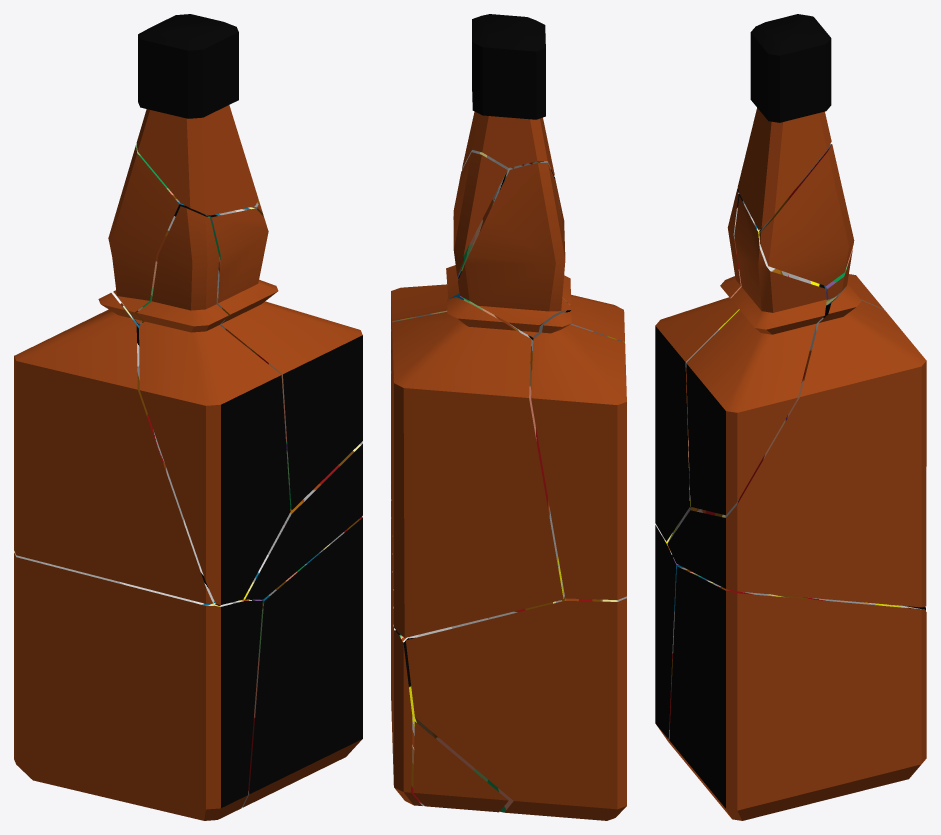
The model's file is whiskey_bottle_shattered.fbx.
3 views of the same model, side by side, from view 1: azimuth 30°, elevation 25°; view 2: azimuth 150°, elevation 25°; view 3: azimuth 270°, elevation 25° (orthographic).
Visible parts, largest first — view 1: WhiskeyBottle_cell.007, WhiskeyBottle_cell.001, WhiskeyBottle_cell.006, WhiskeyBottle_cell.009, WhiskeyBottle_cell.004, WhiskeyBottle_cell.002, WhiskeyBottle_cell.008, WhiskeyBottle_cell; view 2: WhiskeyBottle_cell.008, WhiskeyBottle_cell.007, WhiskeyBottle_cell.001, WhiskeyBottle_cell, WhiskeyBottle_cell.002, WhiskeyBottle_cell.003, WhiskeyBottle_cell.009, WhiskeyBottle_cell.005, WhiskeyBottle_cell.004, WhiskeyBottle_cell.006; view 3: WhiskeyBottle_cell.009, WhiskeyBottle_cell.008, WhiskeyBottle_cell.004, WhiskeyBottle_cell.002, WhiskeyBottle_cell.006, WhiskeyBottle_cell.005, WhiskeyBottle_cell.007.
Boxes of the visible parts, x1,y1,x2,y2 form: WhiskeyBottle_cell.007: (14, 552, 262, 820); WhiskeyBottle_cell.001: (14, 293, 214, 603); WhiskeyBottle_cell.006: (137, 206, 290, 604); WhiskeyBottle_cell.009: (242, 516, 362, 807); WhiskeyBottle_cell.004: (201, 207, 362, 510); WhiskeyBottle_cell.002: (136, 14, 258, 215); WhiskeyBottle_cell.008: (74, 303, 362, 599); WhiskeyBottle_cell: (108, 144, 188, 325); WhiskeyBottle_cell.008: (391, 297, 564, 637); WhiskeyBottle_cell.007: (405, 596, 626, 820); WhiskeyBottle_cell.001: (531, 311, 626, 599); WhiskeyBottle_cell: (458, 163, 571, 340); WhiskeyBottle_cell.002: (462, 14, 554, 180); WhiskeyBottle_cell.003: (413, 721, 508, 812); WhiskeyBottle_cell.009: (391, 481, 423, 805); WhiskeyBottle_cell.005: (453, 152, 507, 276); WhiskeyBottle_cell.004: (391, 216, 486, 373); WhiskeyBottle_cell.006: (554, 177, 624, 342); WhiskeyBottle_cell.009: (669, 566, 926, 820); WhiskeyBottle_cell.008: (667, 284, 926, 607); WhiskeyBottle_cell.004: (686, 195, 826, 515); WhiskeyBottle_cell.002: (737, 14, 831, 229); WhiskeyBottle_cell.006: (655, 188, 741, 541); WhiskeyBottle_cell.005: (759, 144, 854, 285); WhiskeyBottle_cell.007: (655, 524, 925, 755).
Size of the model in its own units: 33.7 by 82.09 by 27.7.
